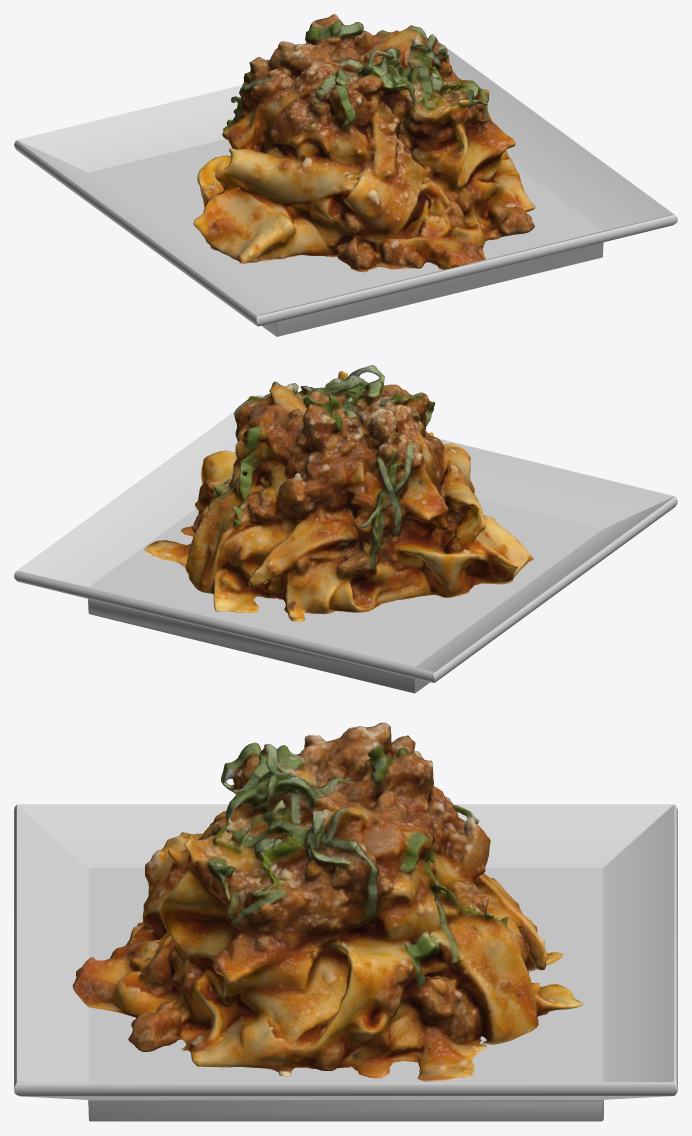
The model's file is pappardelle.glb.
The picture shows the model from 3 angles, top to bottom: view 1: azimuth 30°, elevation 25°; view 2: azimuth 150°, elevation 25°; view 3: azimuth 270°, elevation 25°; orthographic projection. The views are drawn at different scales.
Parts seen in each view (by area): view 1: Model, Plate; view 2: Model, Plate; view 3: Model, Plate.
Boxes of the visible parts, box(x1,y1,x2,y2) form: Model: box(193, 14, 535, 272); Plate: box(14, 41, 677, 336); Model: box(143, 365, 533, 622); Plate: box(14, 395, 677, 693); Model: box(72, 722, 583, 1081); Plate: box(14, 804, 677, 1121).
Bounding box in the file's own units: 0.28 × 0.1258 × 0.28.
Materials: 2 (1 with a texture image).
